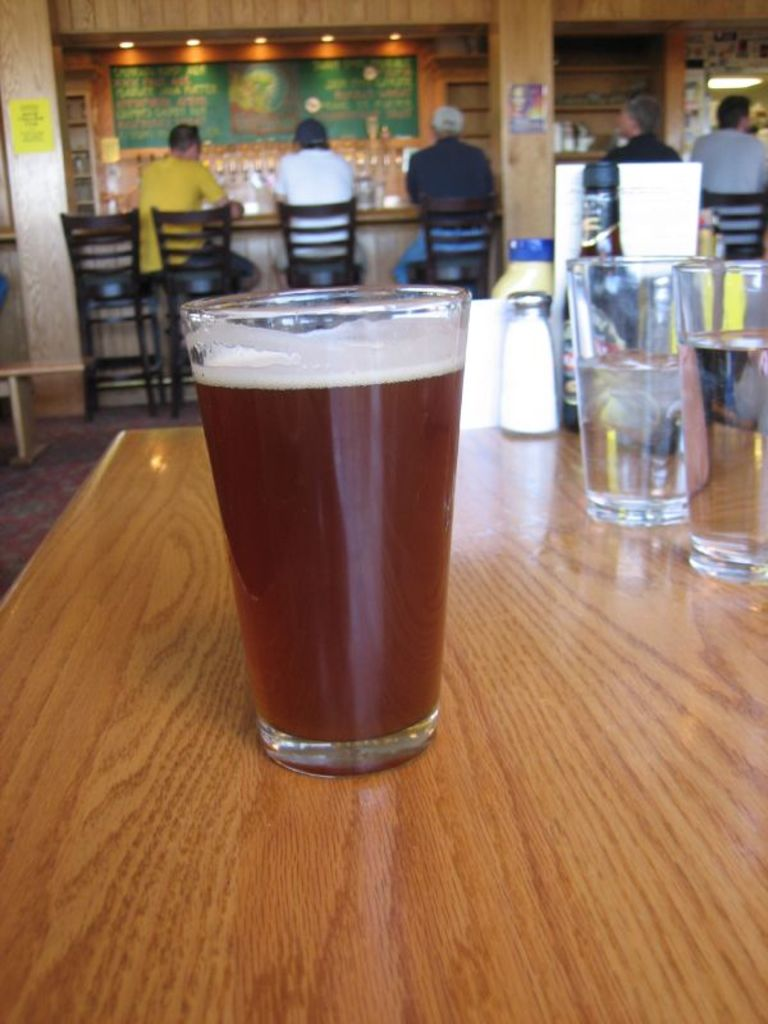Beer: (194, 332, 465, 780)
